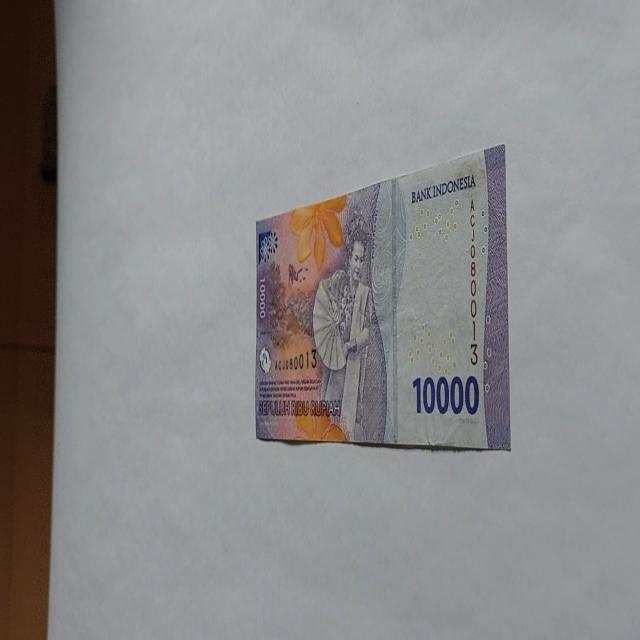sepuluh ribu rupiah: (254, 142, 511, 452), (409, 172, 476, 204)
